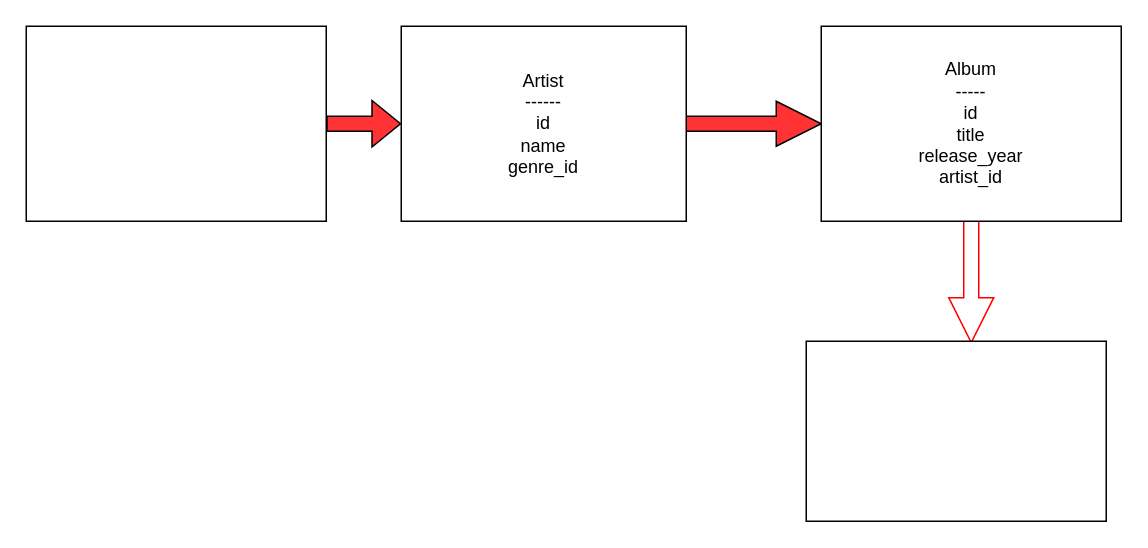
Some shapes in this 1148 by 548 pixel diagram are drawn without their labels. Here are the shapes that lost their labels. From the top down, the centre of each, then its label:
At (175,123): "Genre ----- id name".
At (955,430): "Track ----- id title duration album_id".
